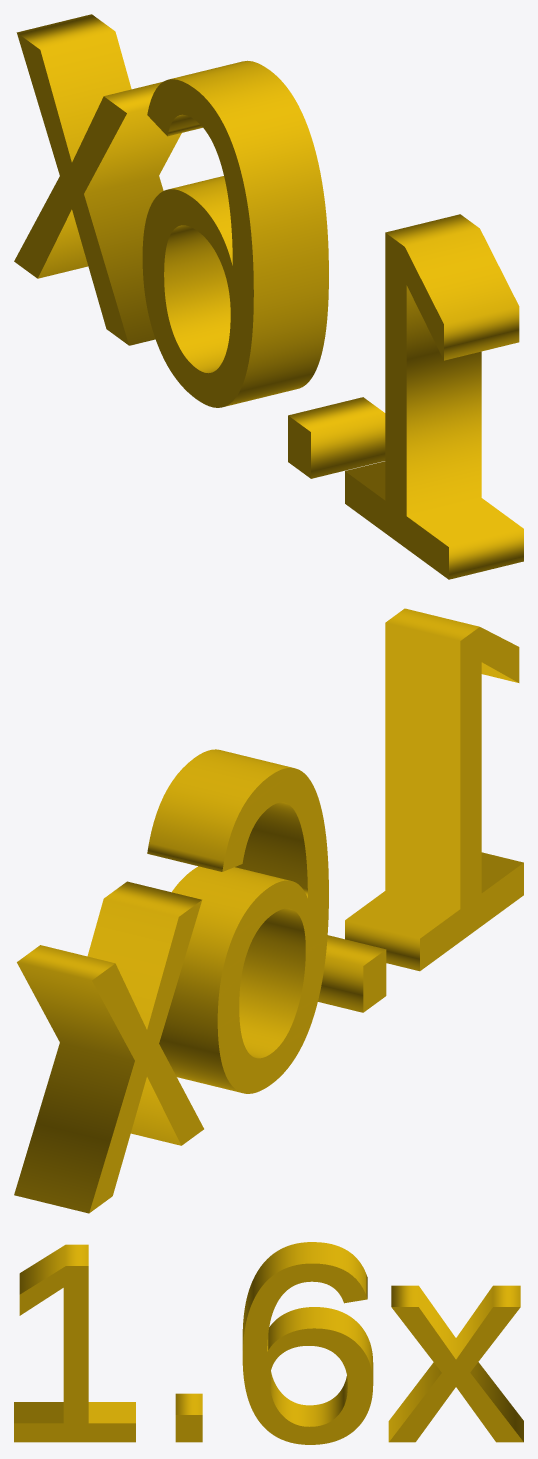
The model's file is poin_power.fbx.
3 renders of one model, top to bottom at view 1: azimuth 30°, elevation 25°; view 2: azimuth 150°, elevation 25°; view 3: azimuth 270°, elevation 25°, orthographic. The views are drawn at different scales.
Visible parts, largest first — view 1: 1.6; view 2: 1.6; view 3: 1.6.
Part boxes in pixels (left/top/right/bottom): 1.6: left=14, top=14, right=523, bottom=579; 1.6: left=14, top=608, right=523, bottom=1213; 1.6: left=14, top=1242, right=523, bottom=1444.
Bounding box in the file's own units: 0.1 × 0.3936 × 1.
